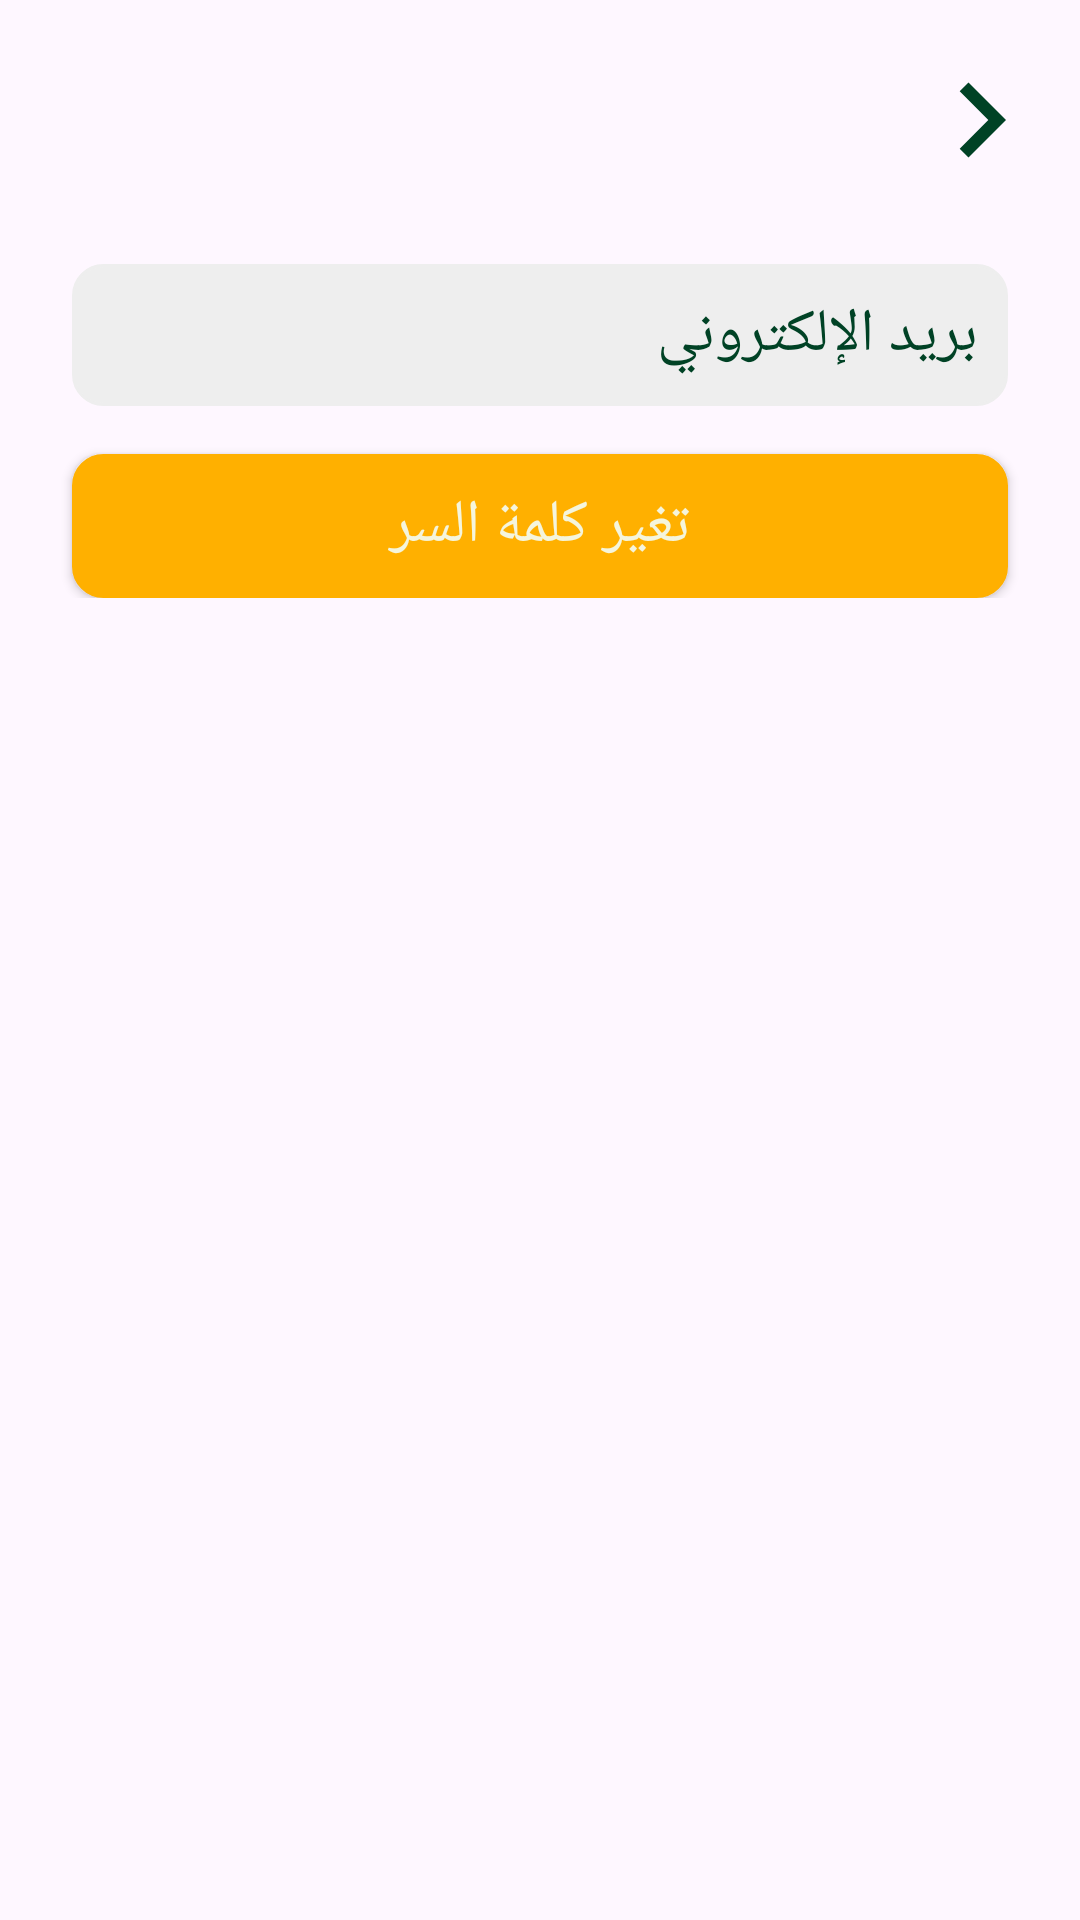

Named icons in this screenshot (1080px×1920px) and their bounding boxes, (x1, y1, x2, y2):
chevron right: (960, 82, 1006, 158)
